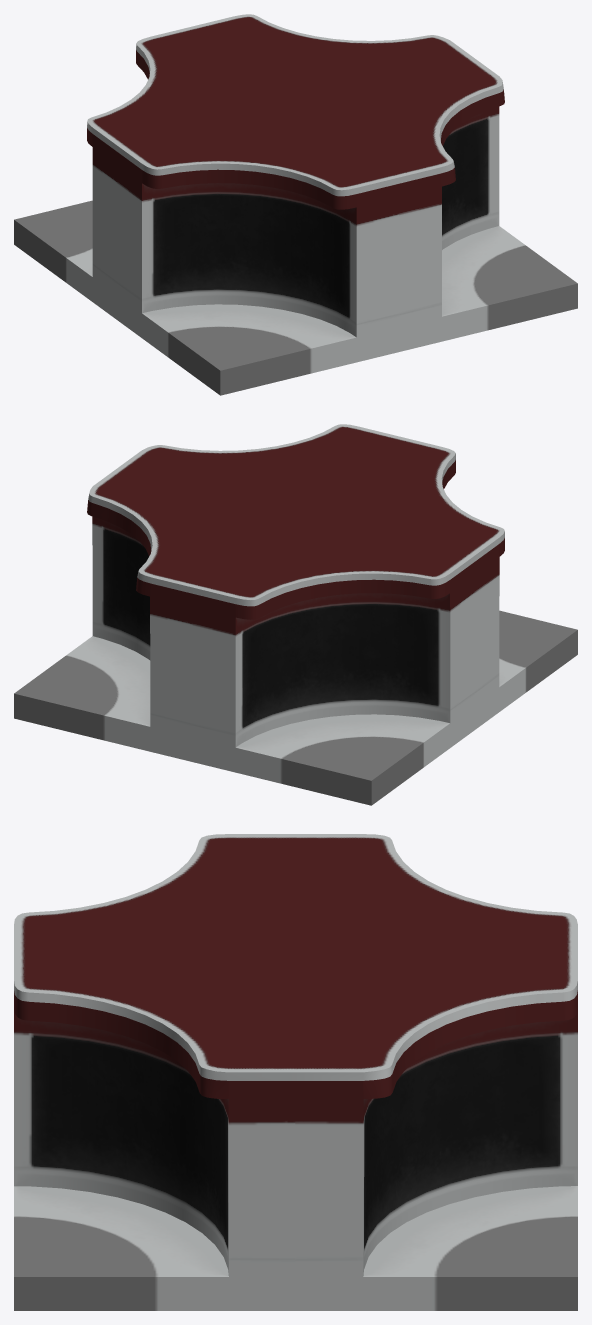
Rendered from Room_Floor_Cross_A_A.FBX.
3 views of the same model, one above another, from view 1: azimuth 30°, elevation 25°; view 2: azimuth 150°, elevation 25°; view 3: azimuth 270°, elevation 25° (orthographic). The views are drawn at different scales.
Visible parts, largest first — view 1: Room_Floor_Cross_A_A; view 2: Room_Floor_Cross_A_A; view 3: Room_Floor_Cross_A_A.
Part boxes in pixels (box(x1,y1,x2,y2)): Room_Floor_Cross_A_A: box(14, 14, 577, 395); Room_Floor_Cross_A_A: box(14, 424, 577, 805); Room_Floor_Cross_A_A: box(14, 834, 577, 1310).
Bounding box in the file's own units: 300 × 140 × 300.
1 material, 1 textured.
